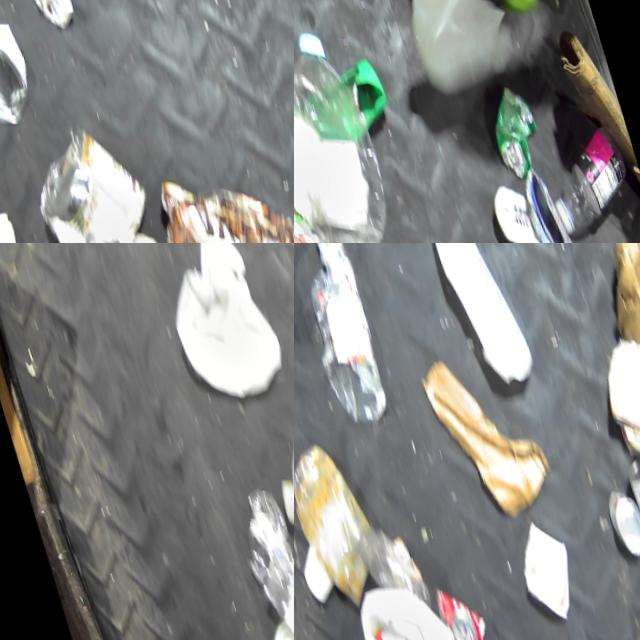can: (474, 74, 553, 181), (0, 14, 40, 131), (428, 577, 487, 640), (598, 479, 640, 556), (618, 440, 640, 553)
milk_jug: (140, 243, 291, 405), (344, 566, 489, 640)
plastic_bottle: (294, 17, 404, 243), (532, 118, 638, 237)
